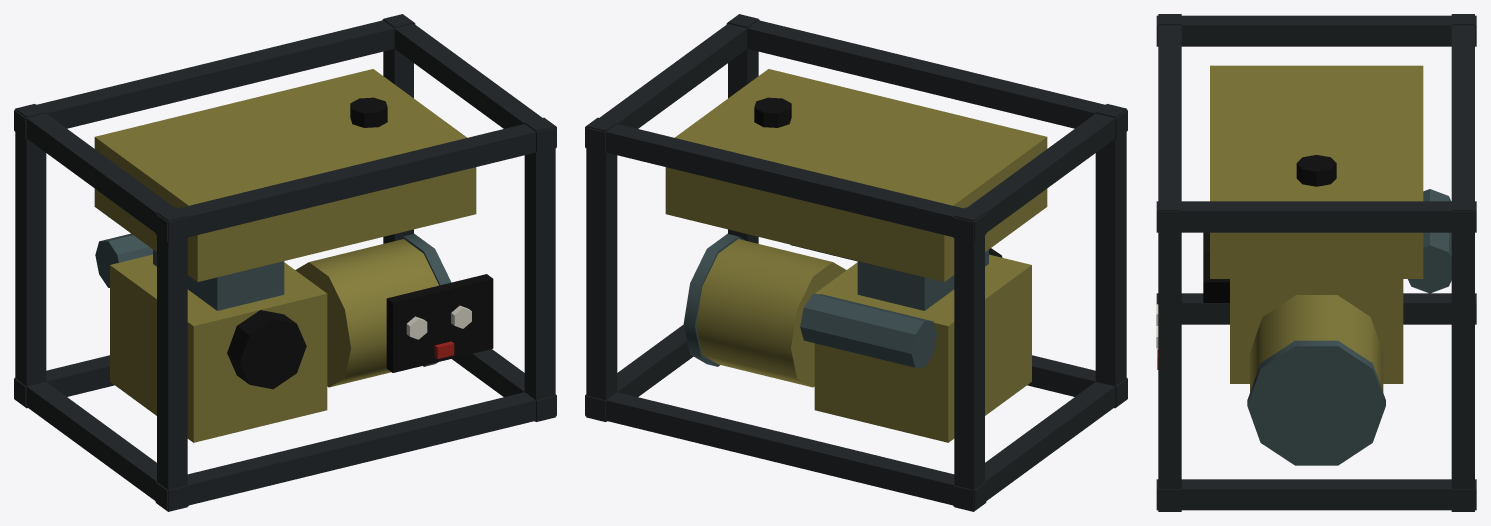
Rendered from scrap_generator.fbx.
3 renders of one model, left to right at view 1: azimuth 30°, elevation 25°; view 2: azimuth 150°, elevation 25°; view 3: azimuth 270°, elevation 25°, orthographic. The views are drawn at different scales.
Visible parts, largest first — view 1: scrap_generator; view 2: scrap_generator; view 3: scrap_generator.
Part boxes in pixels (x1,y1,x2,y2): scrap_generator: (14,14,556,511); scrap_generator: (585,14,1127,511); scrap_generator: (1156,14,1476,511).
Size of the model in its own units: 0.7 by 0.5 by 0.4805.
Materials: 1 (1 with a texture image).
